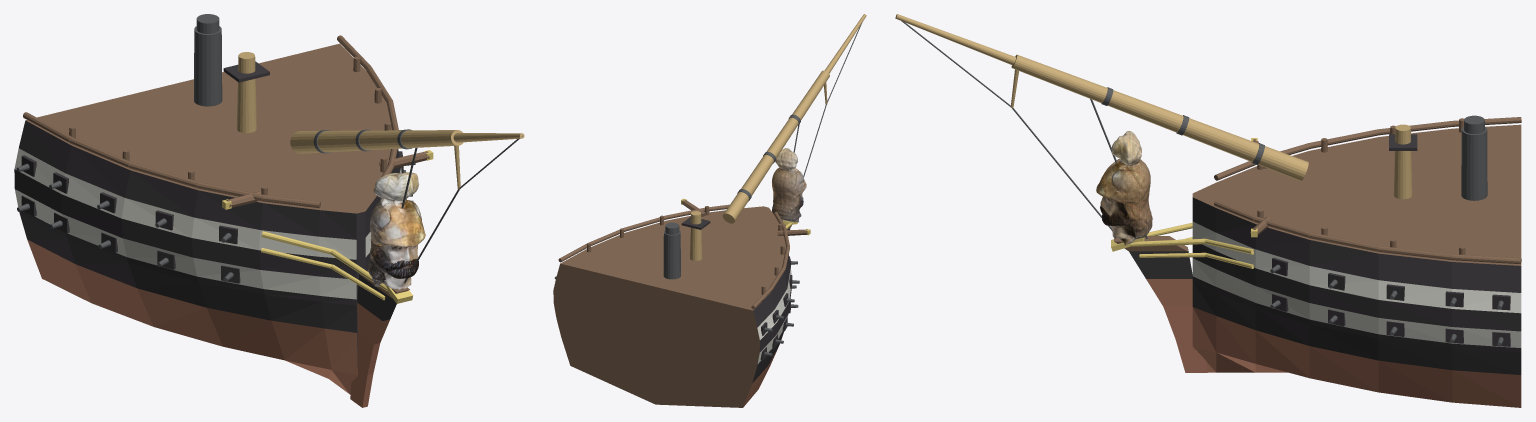
File: defiance.glb
3 renders of one model, left to right at view 1: azimuth 30°, elevation 25°; view 2: azimuth 150°, elevation 25°; view 3: azimuth 270°, elevation 25°, orthographic. The views are drawn at different scales.
Visible parts, largest first — view 1: defiance_ParentBow, defiance_Figurehead; view 2: defiance_ParentBow, defiance_Figurehead; view 3: defiance_ParentBow, defiance_Figurehead.
Boxes of the visible parts, x1=… form: defiance_ParentBow: x1=14, y1=14, x2=524, y2=407; defiance_Figurehead: x1=368, y1=172, x2=425, y2=289; defiance_ParentBow: x1=553, y1=14, x2=866, y2=407; defiance_Figurehead: x1=771, y1=148, x2=806, y2=222; defiance_ParentBow: x1=895, y1=14, x2=1521, y2=407; defiance_Figurehead: x1=1096, y1=131, x2=1152, y2=245.
Bounding box in the file's own units: 15.87 × 16.68 × 26.47.
Materials: 2 (2 with a texture image).
